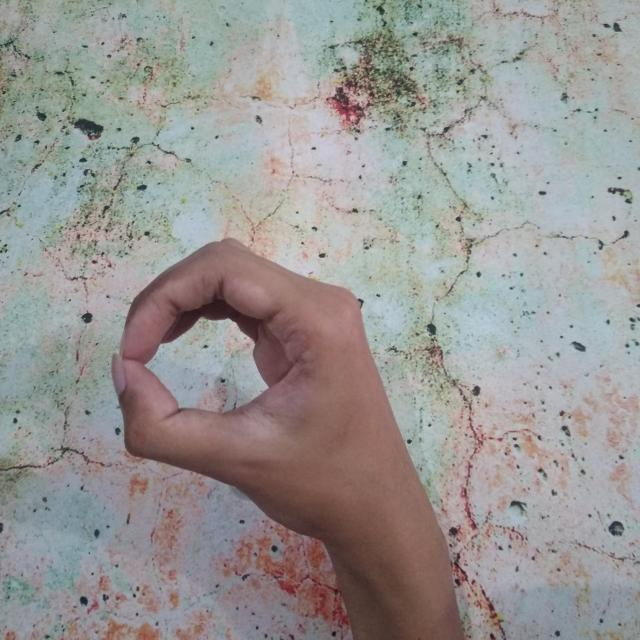O: (106, 228, 469, 640)
